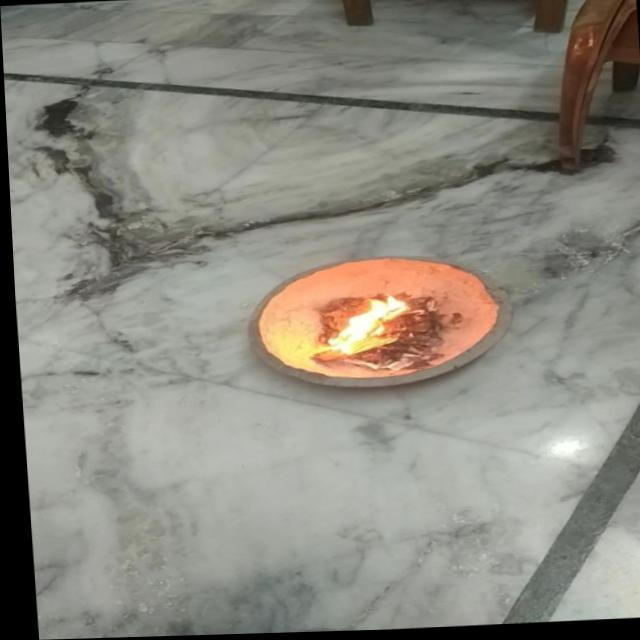fire: (301, 290, 408, 361)
